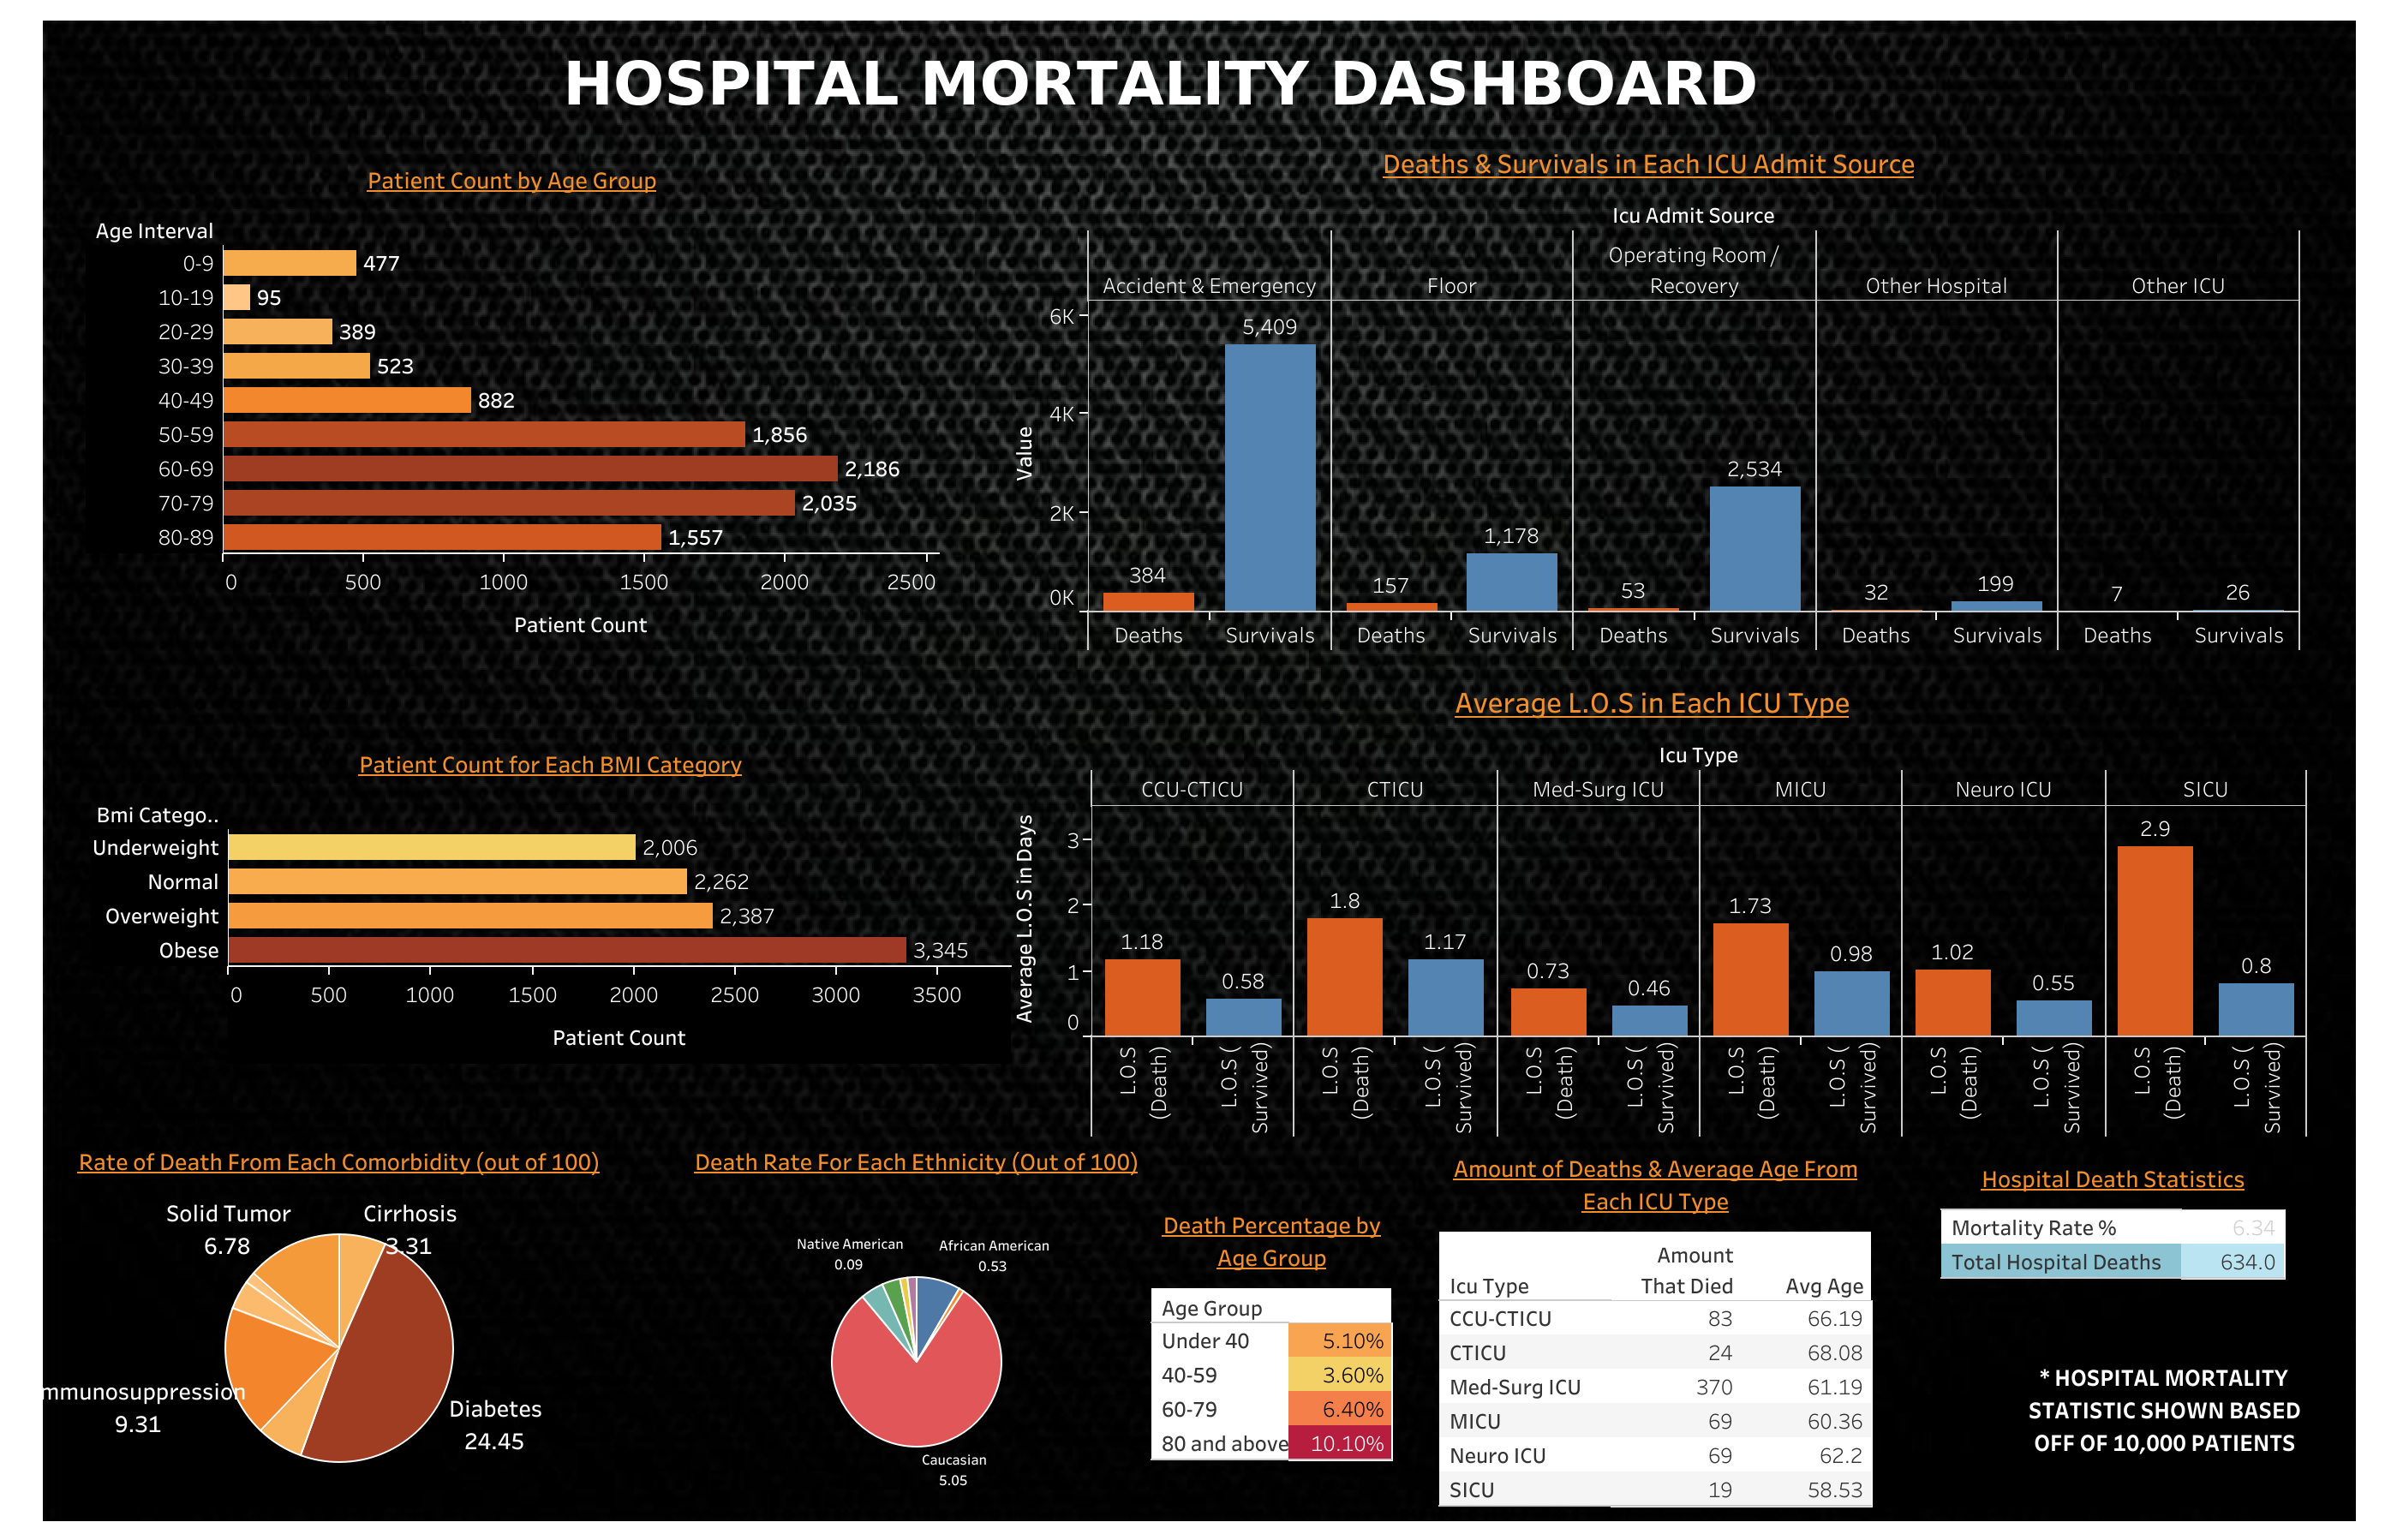

The dashboard page shown, as its layout file describes it:
{"tool":"tableau","page":{"name":"Dashboard 1","canvas":[1400,900],"ordinal":0},"visuals":[{"type":"image","param":"Image/black-background.jpeg","box":[8,8,1384,884]},{"type":"worksheet","title":"Bar 1","mark":"Automatic","cols":["icu_admit_source"],"box":[581,77.6,763,302]},{"type":"worksheet","title":"Sidebar 1","mark":"Automatic","rows":["age_interval"],"cols":["patient_count"],"box":[50.1,89.1,497.8,339.7]},{"type":"worksheet","title":"Bar 2","mark":"Automatic","cols":["icu_type"],"box":[581,391.5,766.5,273.3]},{"type":"worksheet","title":"Sidebar 2","mark":"Automatic","rows":["bmi_category"],"cols":["patient_count"],"box":[52.5,429.7,537.8,278.1]},{"type":"worksheet","title":"Pie 1","mark":"Pie","box":[19.4,661.6,357.7,216.1]},{"type":"worksheet","title":"Pie 2","mark":"Pie","box":[251.7,661.6,566.1,232.8]},{"type":"worksheet","title":"Sheet 4","mark":"Automatic","rows":["icu_type"],"box":[840,666,316.2,217.2]},{"type":"worksheet","title":"Sheet 6","mark":"Automatic","box":[1132.8,672,233.3,118.2]},{"type":"worksheet","title":"Sheet 2","mark":"Square","rows":["age_group"],"box":[672,699.5,205.3,198.1]},{"type":"text","box":[1174.4,774.1,178.8,95.8]}]}

Visuals, with their boxes in screenshot pixels (x1, y1, x2, y2), scaled from the page's 1400x900 canvas onto the 2397x1540 screenshot:
image: 14:14:2383:1526
"Bar 1" worksheet: 995:133:2301:649
"Sidebar 1" worksheet: 86:152:938:734
"Bar 2" worksheet: 995:670:2307:1137
"Sidebar 2" worksheet: 90:735:1011:1211
"Pie 1" worksheet (Pie marks): 33:1132:646:1501
"Pie 2" worksheet (Pie marks): 431:1132:1400:1531
"Sheet 4" worksheet: 1438:1140:1980:1511
"Sheet 6" worksheet: 1940:1150:2339:1352
"Sheet 2" worksheet (Square marks): 1151:1197:1502:1536
text: 2011:1324:2316:1489
